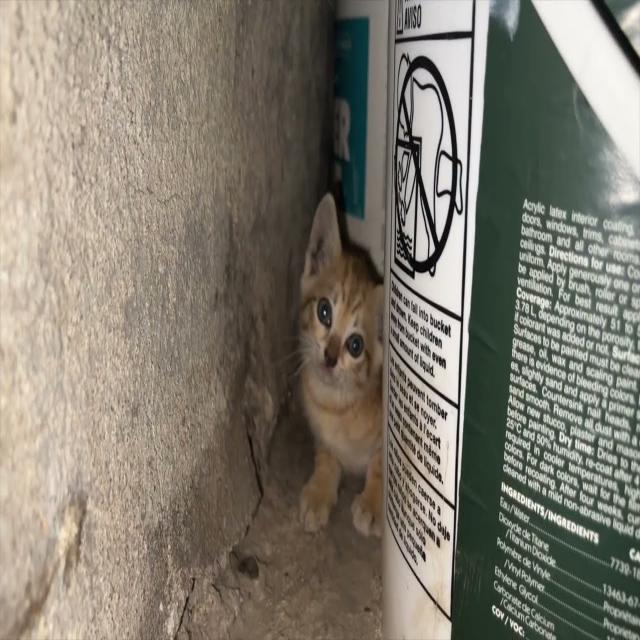cat: (300, 193, 384, 536)
